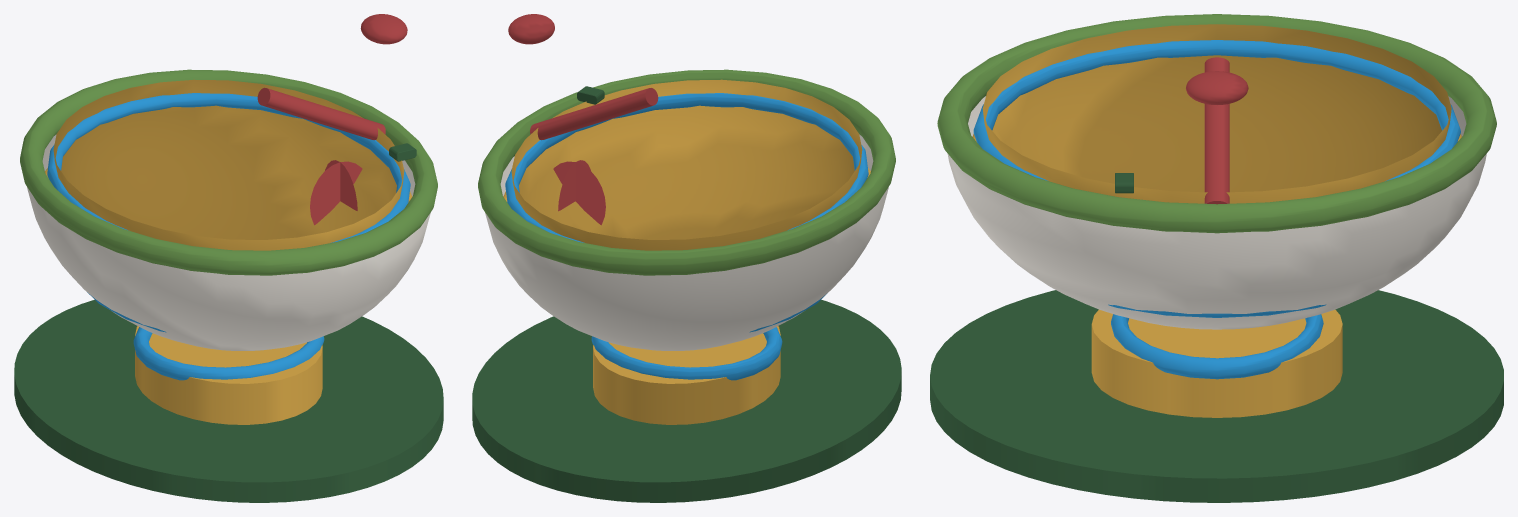
The model's file is 0743_先秦图鉴_绿松石龙形器.glb.
The picture shows the model from 3 angles, left to right: view 1: azimuth 30°, elevation 25°; view 2: azimuth 150°, elevation 25°; view 3: azimuth 270°, elevation 25°; orthographic projection. The views are drawn at different scales.
Parts seen in each view (by area): view 1: card_0743; view 2: card_0743; view 3: card_0743.
Part boxes in pixels (x1,y1,x2,y2): card_0743: [14, 14, 443, 502]; card_0743: [472, 14, 901, 502]; card_0743: [930, 14, 1503, 502].
Size of the model in its own units: 1.07 by 1 by 1.25.
